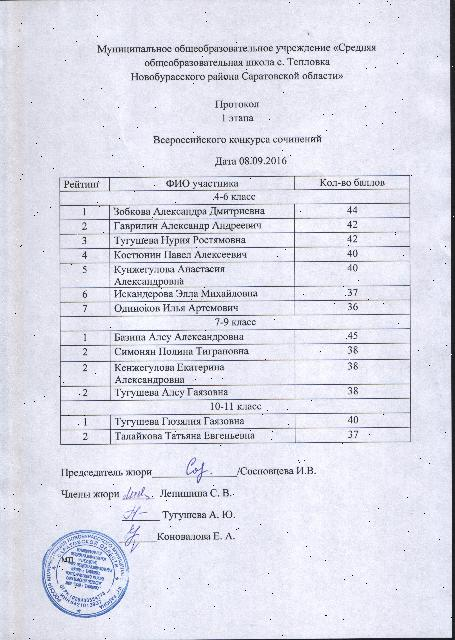stamp: (40, 529, 130, 619)
